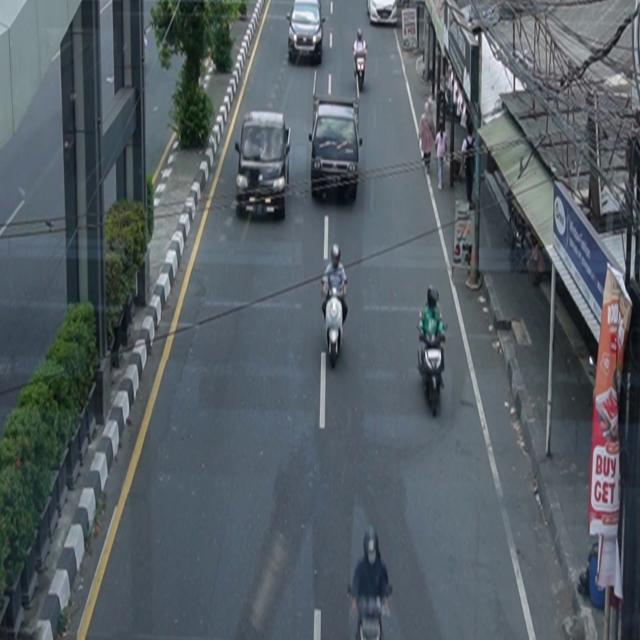car: (235, 111, 292, 221), (309, 97, 364, 204), (287, 1, 327, 66), (367, 1, 399, 27)
